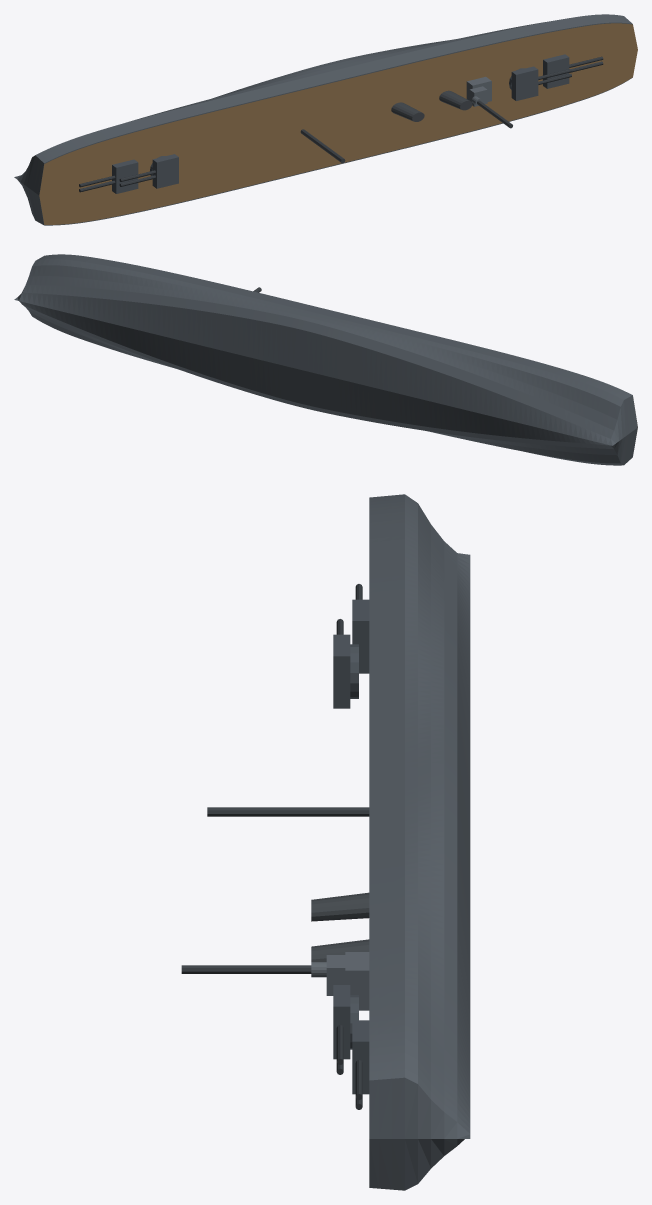
The model's file is 金剛型.obj.
The picture shows the model from 3 angles, top to bottom: view 1: azimuth 30°, elevation 25°; view 2: azimuth 150°, elevation 25°; view 3: azimuth 270°, elevation 25°; orthographic projection. The views are drawn at different scales.
Size of the model in its own units: 201 by 28.64 by 42.03.
